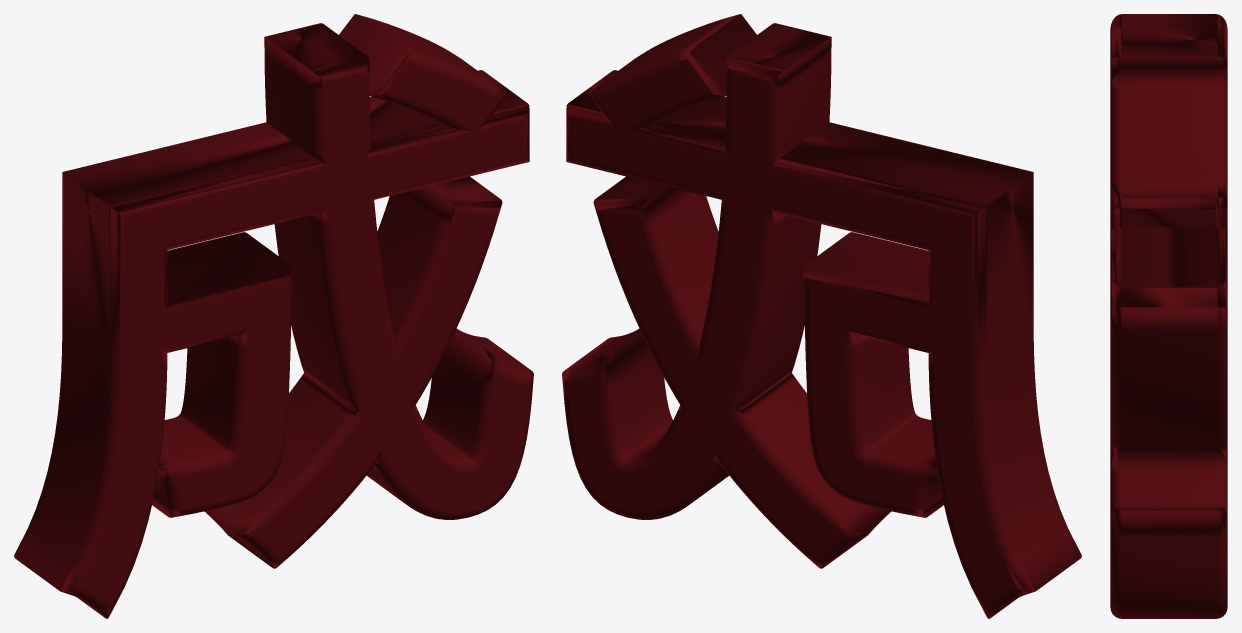
The model's file is MottoSing.fbx.
3 views of the same model, side by side, from view 1: azimuth 30°, elevation 25°; view 2: azimuth 150°, elevation 25°; view 3: azimuth 270°, elevation 25° (orthographic). The views are drawn at different scales.
Visible parts, largest first — view 1: 文本.014; view 2: 文本.014; view 3: 文本.014.
Boxes of the visible parts, x1=… form: 文本.014: x1=14, y1=14, x2=533, y2=618; 文本.014: x1=562, y1=14, x2=1081, y2=618; 文本.014: x1=1110, y1=14, x2=1227, y2=618.
Size of the model in its own units: 97.22 by 20 by 98.04.
